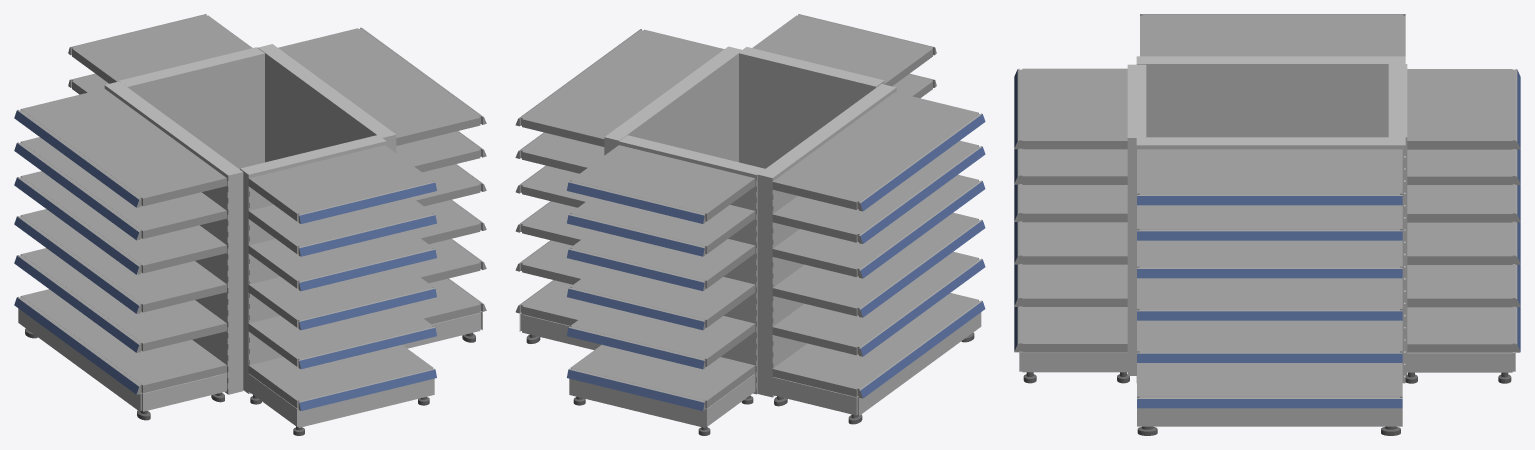
Rendered from shelf5.fbx.
The picture shows the model from 3 angles, left to right: view 1: azimuth 30°, elevation 25°; view 2: azimuth 150°, elevation 25°; view 3: azimuth 270°, elevation 25°; orthographic projection. The views are drawn at different scales.
Visible parts, largest first — view 1: group5 (×4), pCube13 (×4), pCube12 (×3); view 2: group5 (×4), pCube13 (×4), pCube12 (×3); view 3: group5 (×4), pCube13 (×4), pCube12 (×3).
Boxes of the visible parts, x1=… form: group5 (×4): x1=14, y1=14, x2=486, y2=410; pCube13 (×4): x1=104, y1=44, x2=396, y2=394; pCube12 (×3): x1=18, y1=308, x2=482, y2=427; group5 (×4): x1=515, y1=14, x2=985, y2=410; pCube13 (×4): x1=604, y1=46, x2=896, y2=397; pCube12 (×3): x1=519, y1=312, x2=981, y2=427; group5 (×4): x1=1014, y1=14, x2=1520, y2=408; pCube13 (×4): x1=1127, y1=56, x2=1407, y2=383; pCube12 (×3): x1=1019, y1=351, x2=1515, y2=426.
Bounding box in the file's own units: 1.67 × 1.04 × 1.93.
